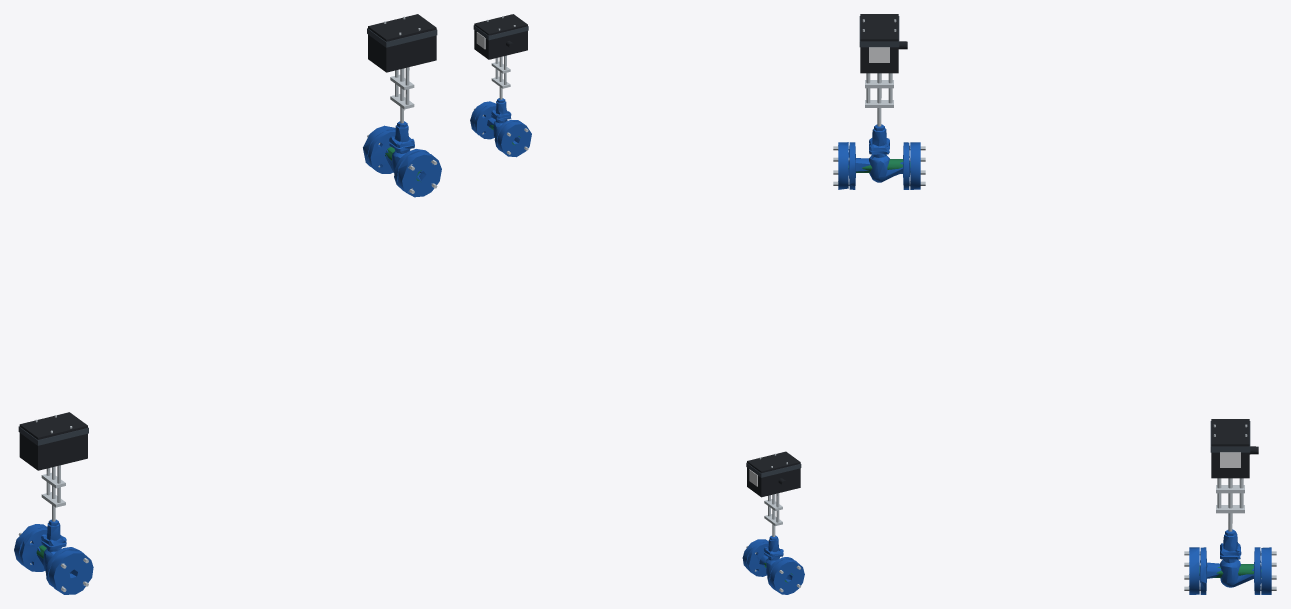
The model's file is modulation.glb.
3 renders of one model, left to right at view 1: azimuth 30°, elevation 25°; view 2: azimuth 210°, elevation 25°; view 3: azimuth 270°, elevation 25°, orthographic. The views are drawn at different scales.
Parts seen in each view (by area): view 1: mod_direct_drive, mod_eco_drive, mod_eco, mod_direct; view 2: mod_direct_drive, mod_eco_drive, mod_eco, mod_direct; view 3: mod_eco_drive, mod_direct_drive, mod_eco, mod_direct.
Boxes of the visible parts, x1=… form: mod_direct_drive: x1=367, y1=14, x2=437, y2=123; mod_eco_drive: x1=18, y1=412, x2=88, y2=521; mod_eco: x1=14, y1=519, x2=93, y2=594; mod_direct: x1=363, y1=121, x2=441, y2=197; mod_direct_drive: x1=473, y1=14, x2=528, y2=99; mod_eco_drive: x1=746, y1=451, x2=801, y2=536; mod_eco: x1=742, y1=535, x2=804, y2=594; mod_direct: x1=470, y1=98, x2=531, y2=157; mod_eco_drive: x1=1210, y1=419, x2=1258, y2=531; mod_direct_drive: x1=859, y1=14, x2=907, y2=126; mod_eco: x1=1184, y1=529, x2=1276, y2=594; mod_direct: x1=833, y1=124, x2=925, y2=189.
Size of the model in its own units: 0.806 by 2.13 by 1.3.
